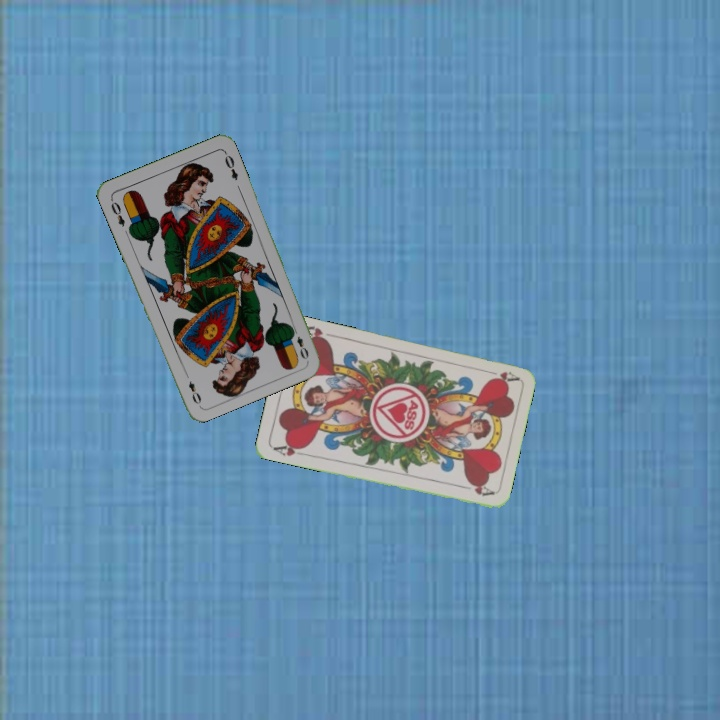EO: (288, 323, 311, 362), (107, 195, 128, 229)
HA: (269, 439, 310, 459), (480, 366, 520, 385)
